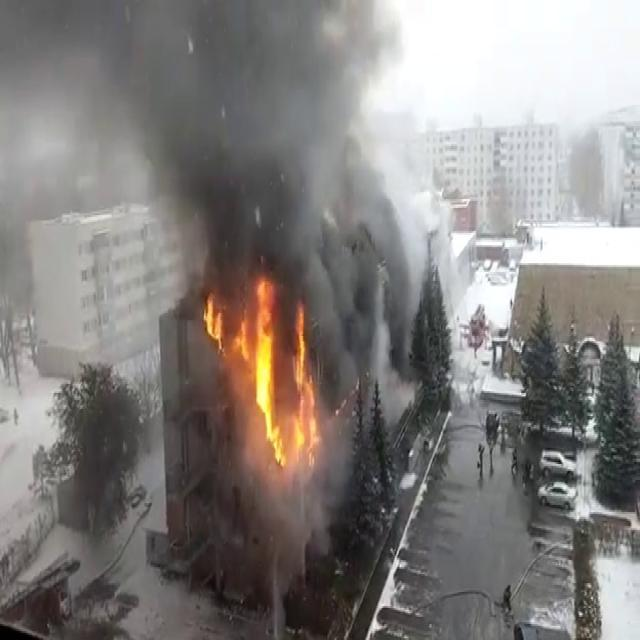Fire: (202, 263, 323, 471)
Smoke: (0, 1, 431, 310)
